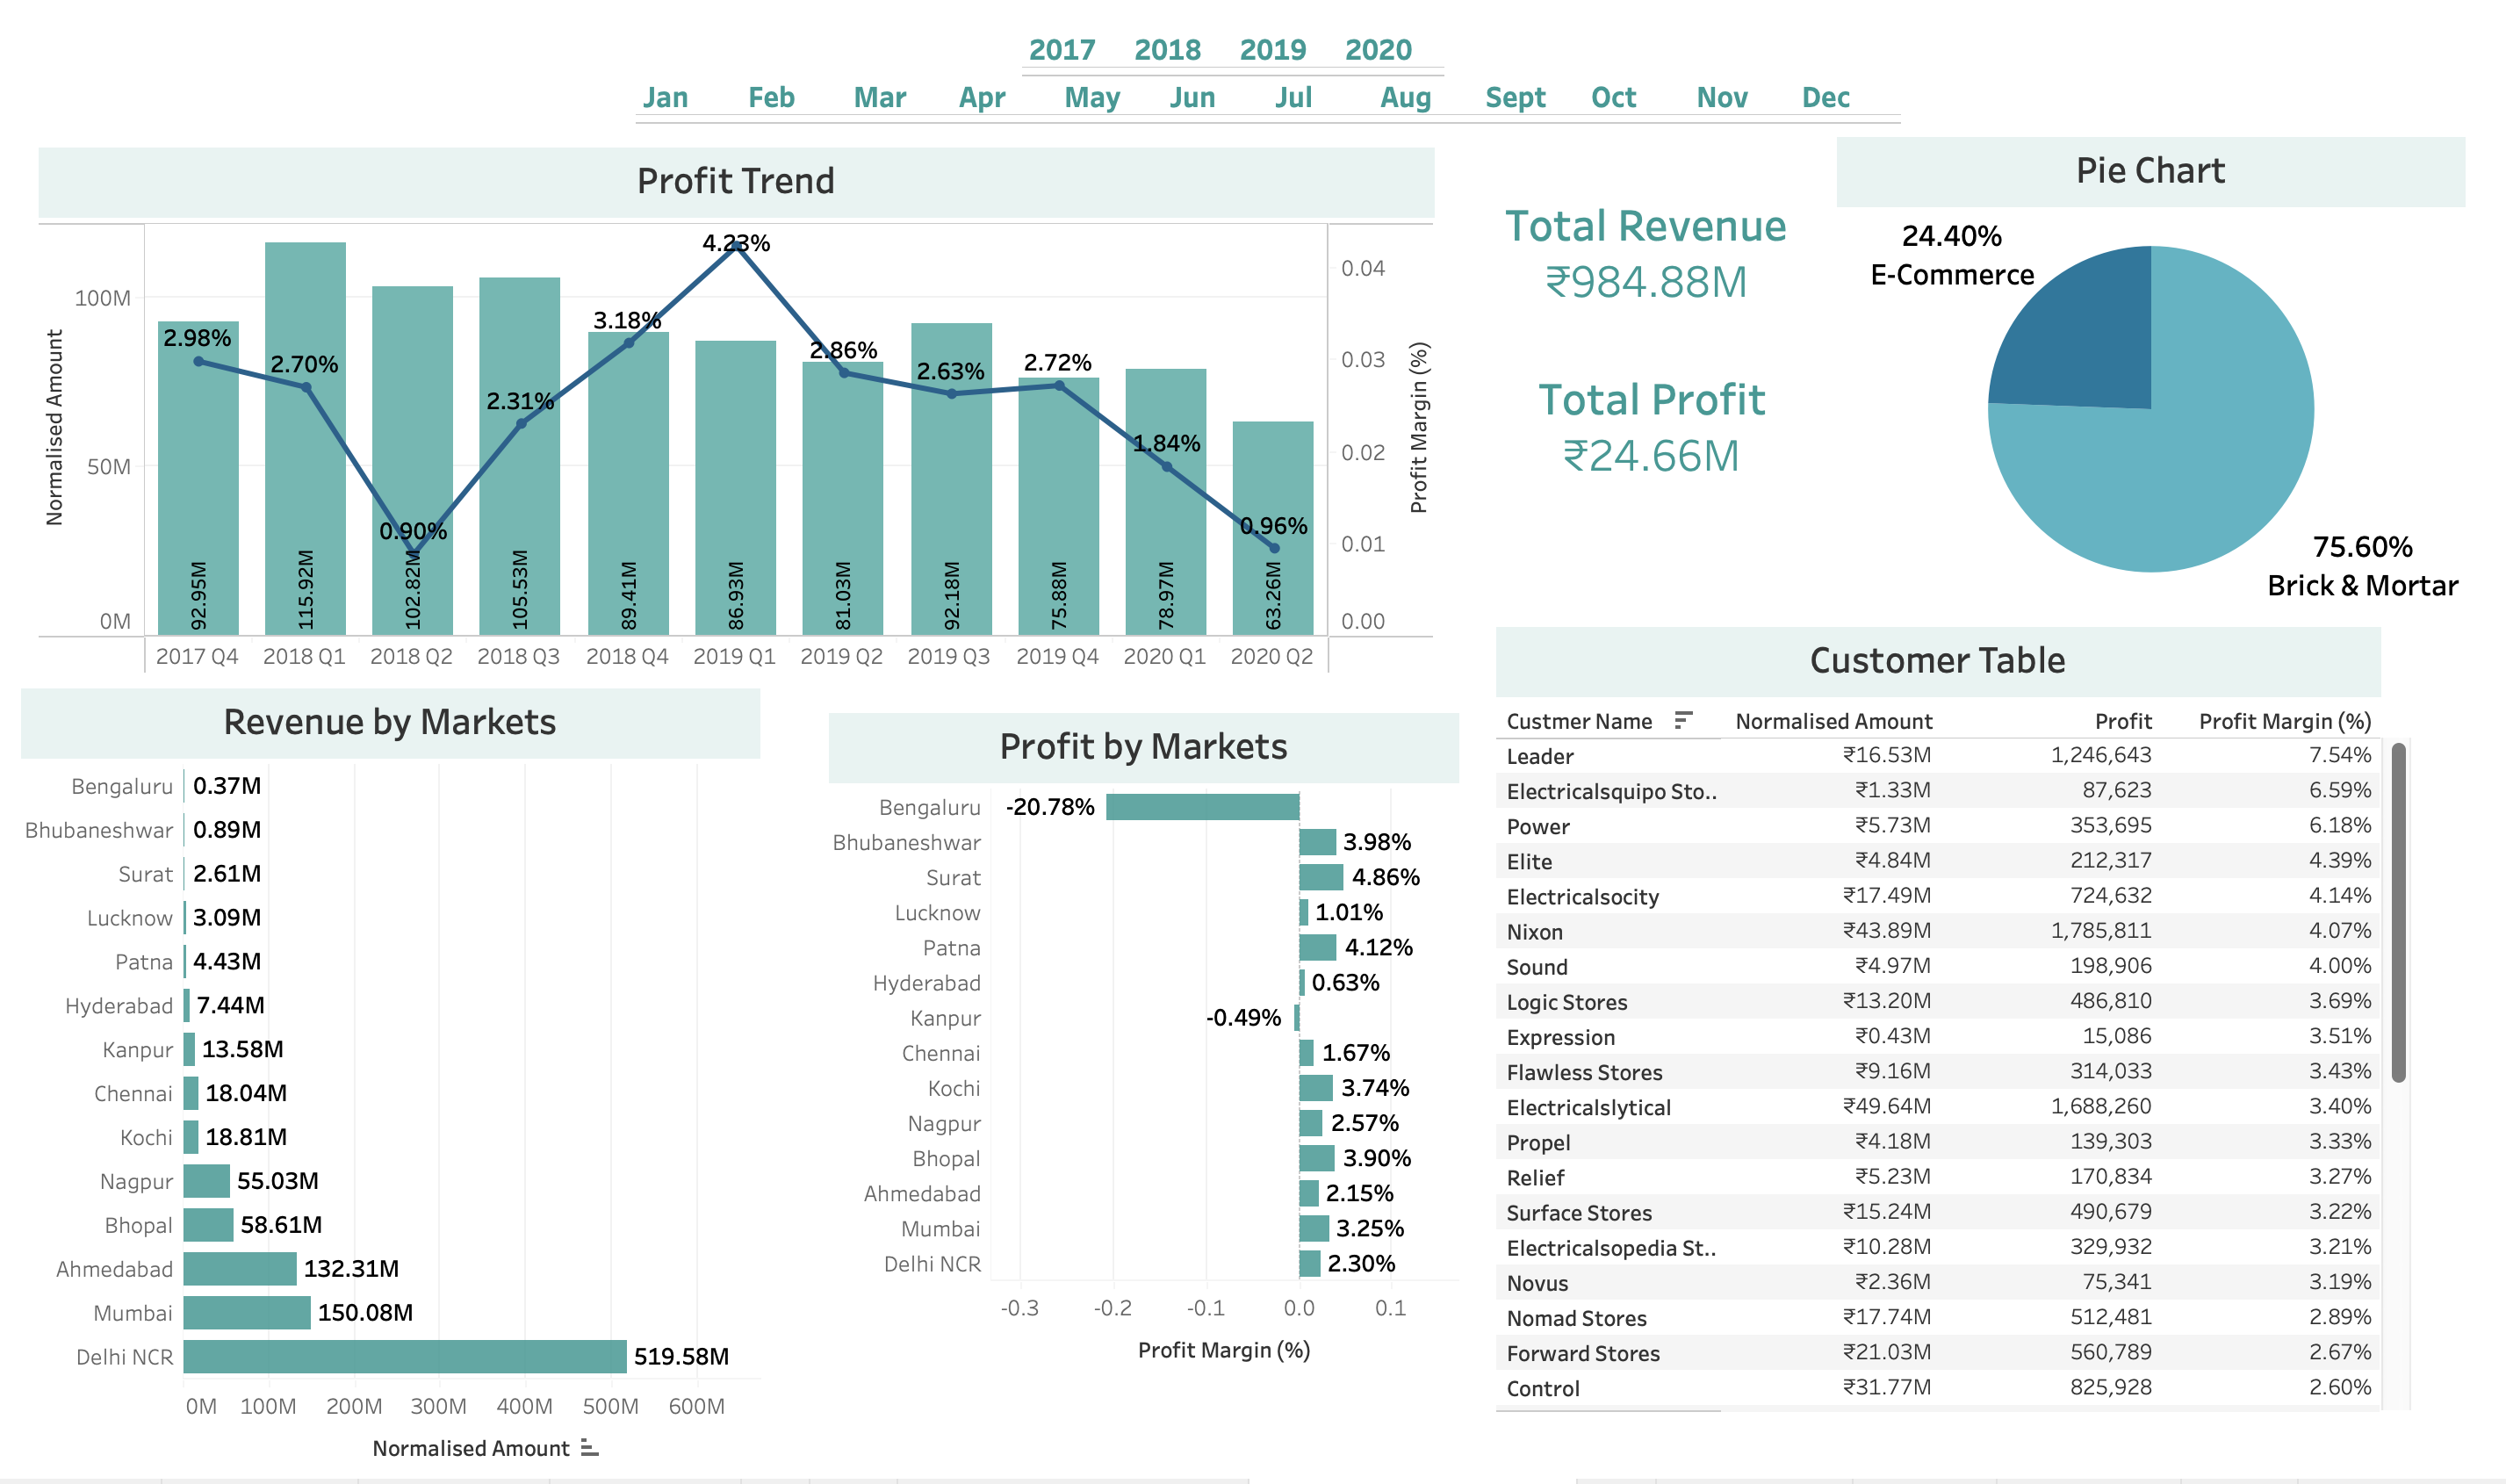

This screenshot's page, from the dashboard's own definition file:
{"tool":"tableau","page":{"name":"Dashboard - Profit Analysis","canvas":[1400,800],"ordinal":0},"visuals":[{"type":"worksheet","title":"Year","mark":"Automatic","cols":["cy_date"],"box":[573,11,251,30]},{"type":"worksheet","title":"Month","mark":"Automatic","cols":["cy_date"],"box":[353,38,798,37]},{"type":"worksheet","title":"Pie Chart","mark":"Pie","box":[1037,71,358,267]},{"type":"worksheet","title":"Profit Trend","mark":"Bar","rows":["Calculation_741756994980962304","Calculation_1268748521591902208"],"cols":["cy_date"],"box":[13,77,795,301]},{"type":"worksheet","title":"Revenue","mark":"Automatic","box":[829,102,200,76]},{"type":"worksheet","title":"Profit","mark":"Automatic","box":[862,203,143,71]},{"type":"worksheet","title":"Customer Table","mark":"Automatic","rows":["custmer_name"],"box":[843,350,539,447]},{"type":"worksheet","title":"Profit by Markets","mark":"Automatic","rows":["markets_name"],"cols":["Calculation_1268748521591902208"],"box":[463,399,359,396]}]}

Visuals, with their boxes on the page's 1400x800 design canvas (x1, y1, x2, y2). These are canvas units, not pixel positions in the 2506x1484 screenshot, which may show the page scaled, cropped or inside an application window:
"Year" worksheet: [573,11,824,41]
"Month" worksheet: [353,38,1151,75]
"Pie Chart" worksheet (Pie marks): [1037,71,1395,338]
"Profit Trend" worksheet (Bar marks): [13,77,808,378]
"Revenue" worksheet: [829,102,1029,178]
"Profit" worksheet: [862,203,1005,274]
"Customer Table" worksheet: [843,350,1382,797]
"Profit by Markets" worksheet: [463,399,822,795]
